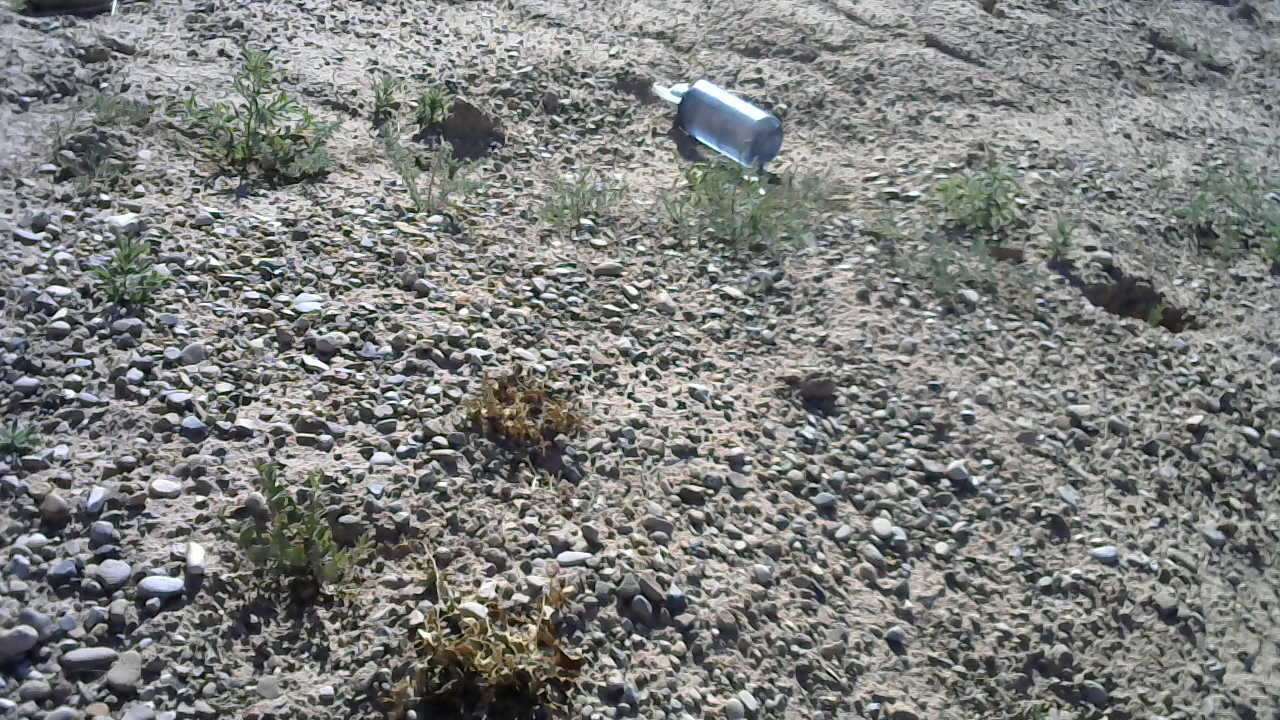bottle: (663, 71, 787, 167)
